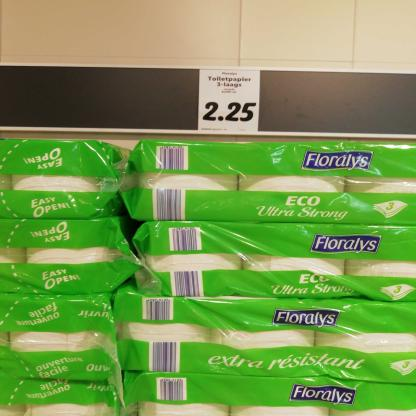prtg: (199, 70, 261, 133)
